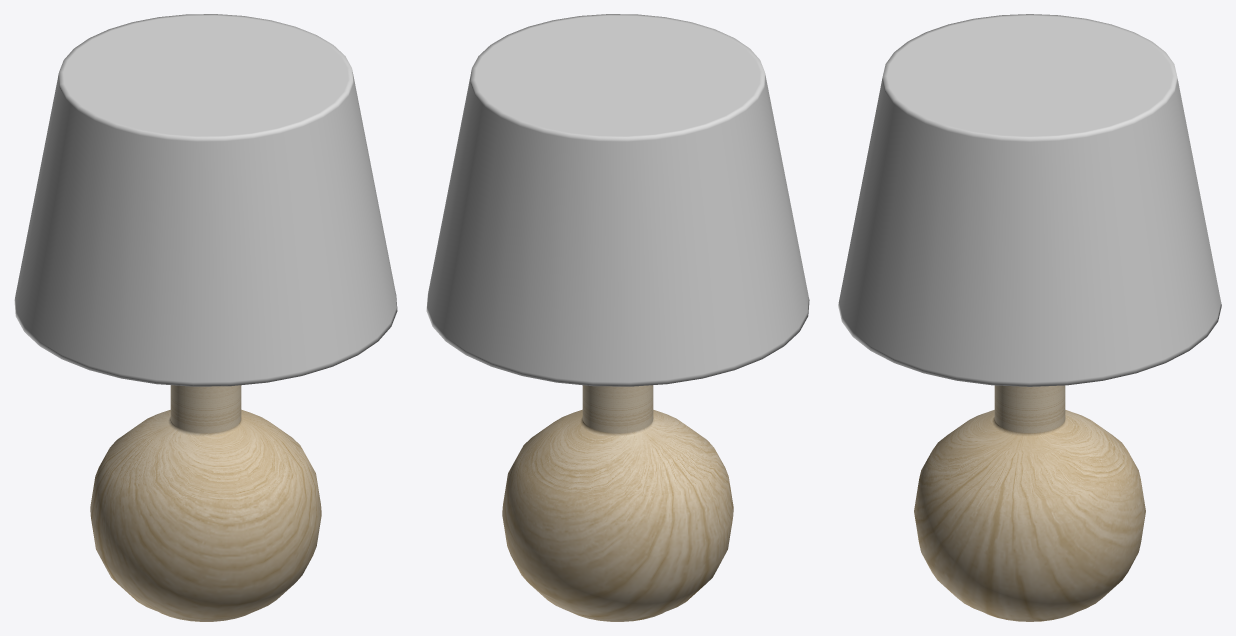
The model's file is BedroomLamp.fbx.
3 renders of one model, left to right at view 1: azimuth 30°, elevation 25°; view 2: azimuth 150°, elevation 25°; view 3: azimuth 270°, elevation 25°, orthographic.
Parts seen in each view (by area): view 1: Cylinder; view 2: Cylinder; view 3: Cylinder.
Boxes of the visible parts, x1,y1,x2,y2 form: Cylinder: (14,14,397,621); Cylinder: (426,14,809,621); Cylinder: (838,14,1221,621).
Bounding box in the file's own units: 200 × 299 × 200.
